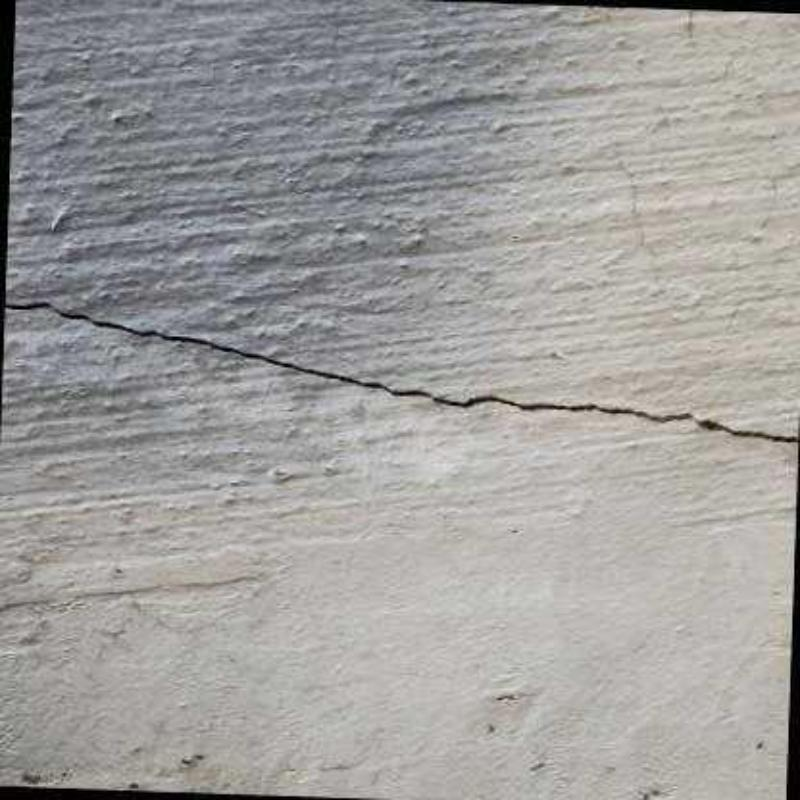pothole: (3, 300, 799, 445)
